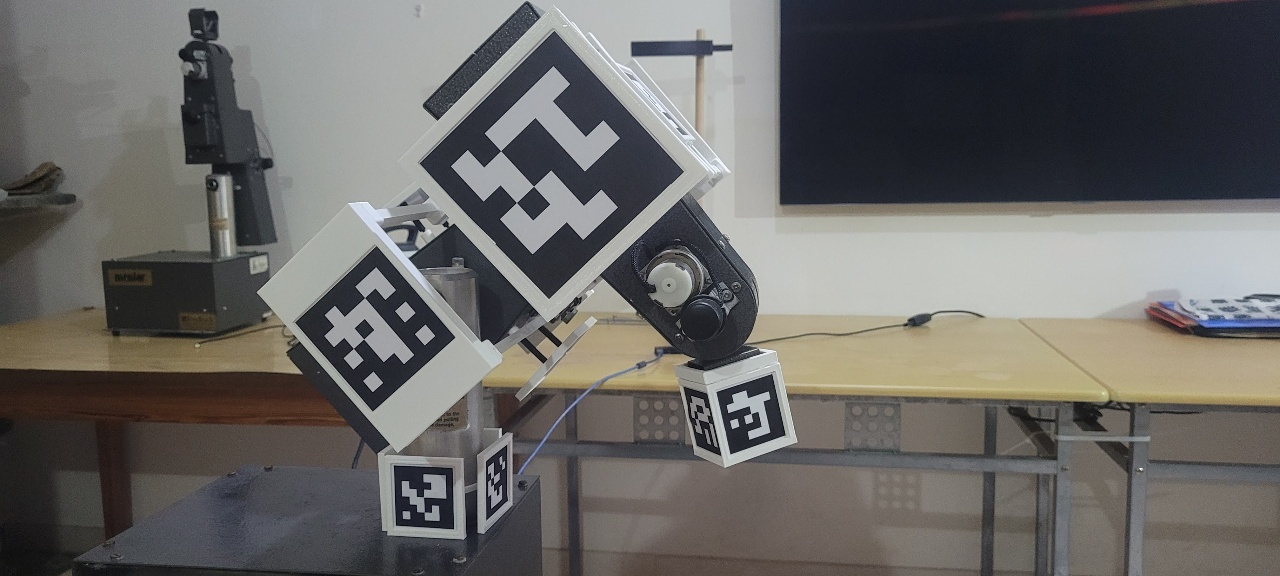Robot: (255, 2, 801, 540)
